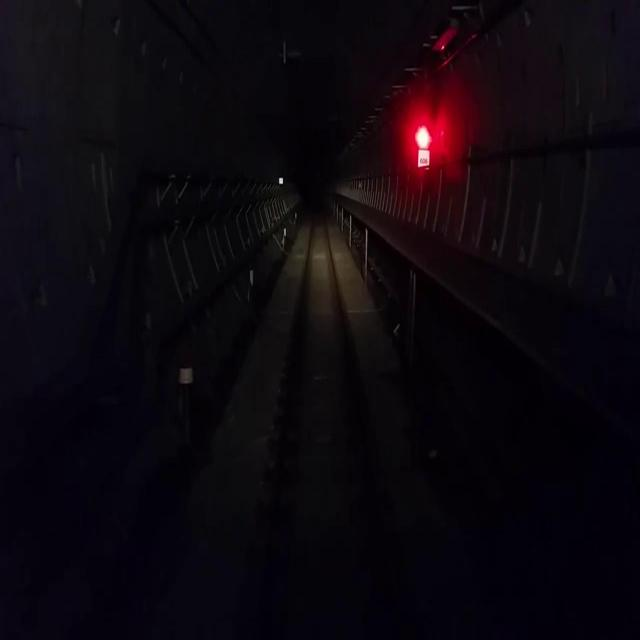rail-track: (267, 207, 381, 575)
